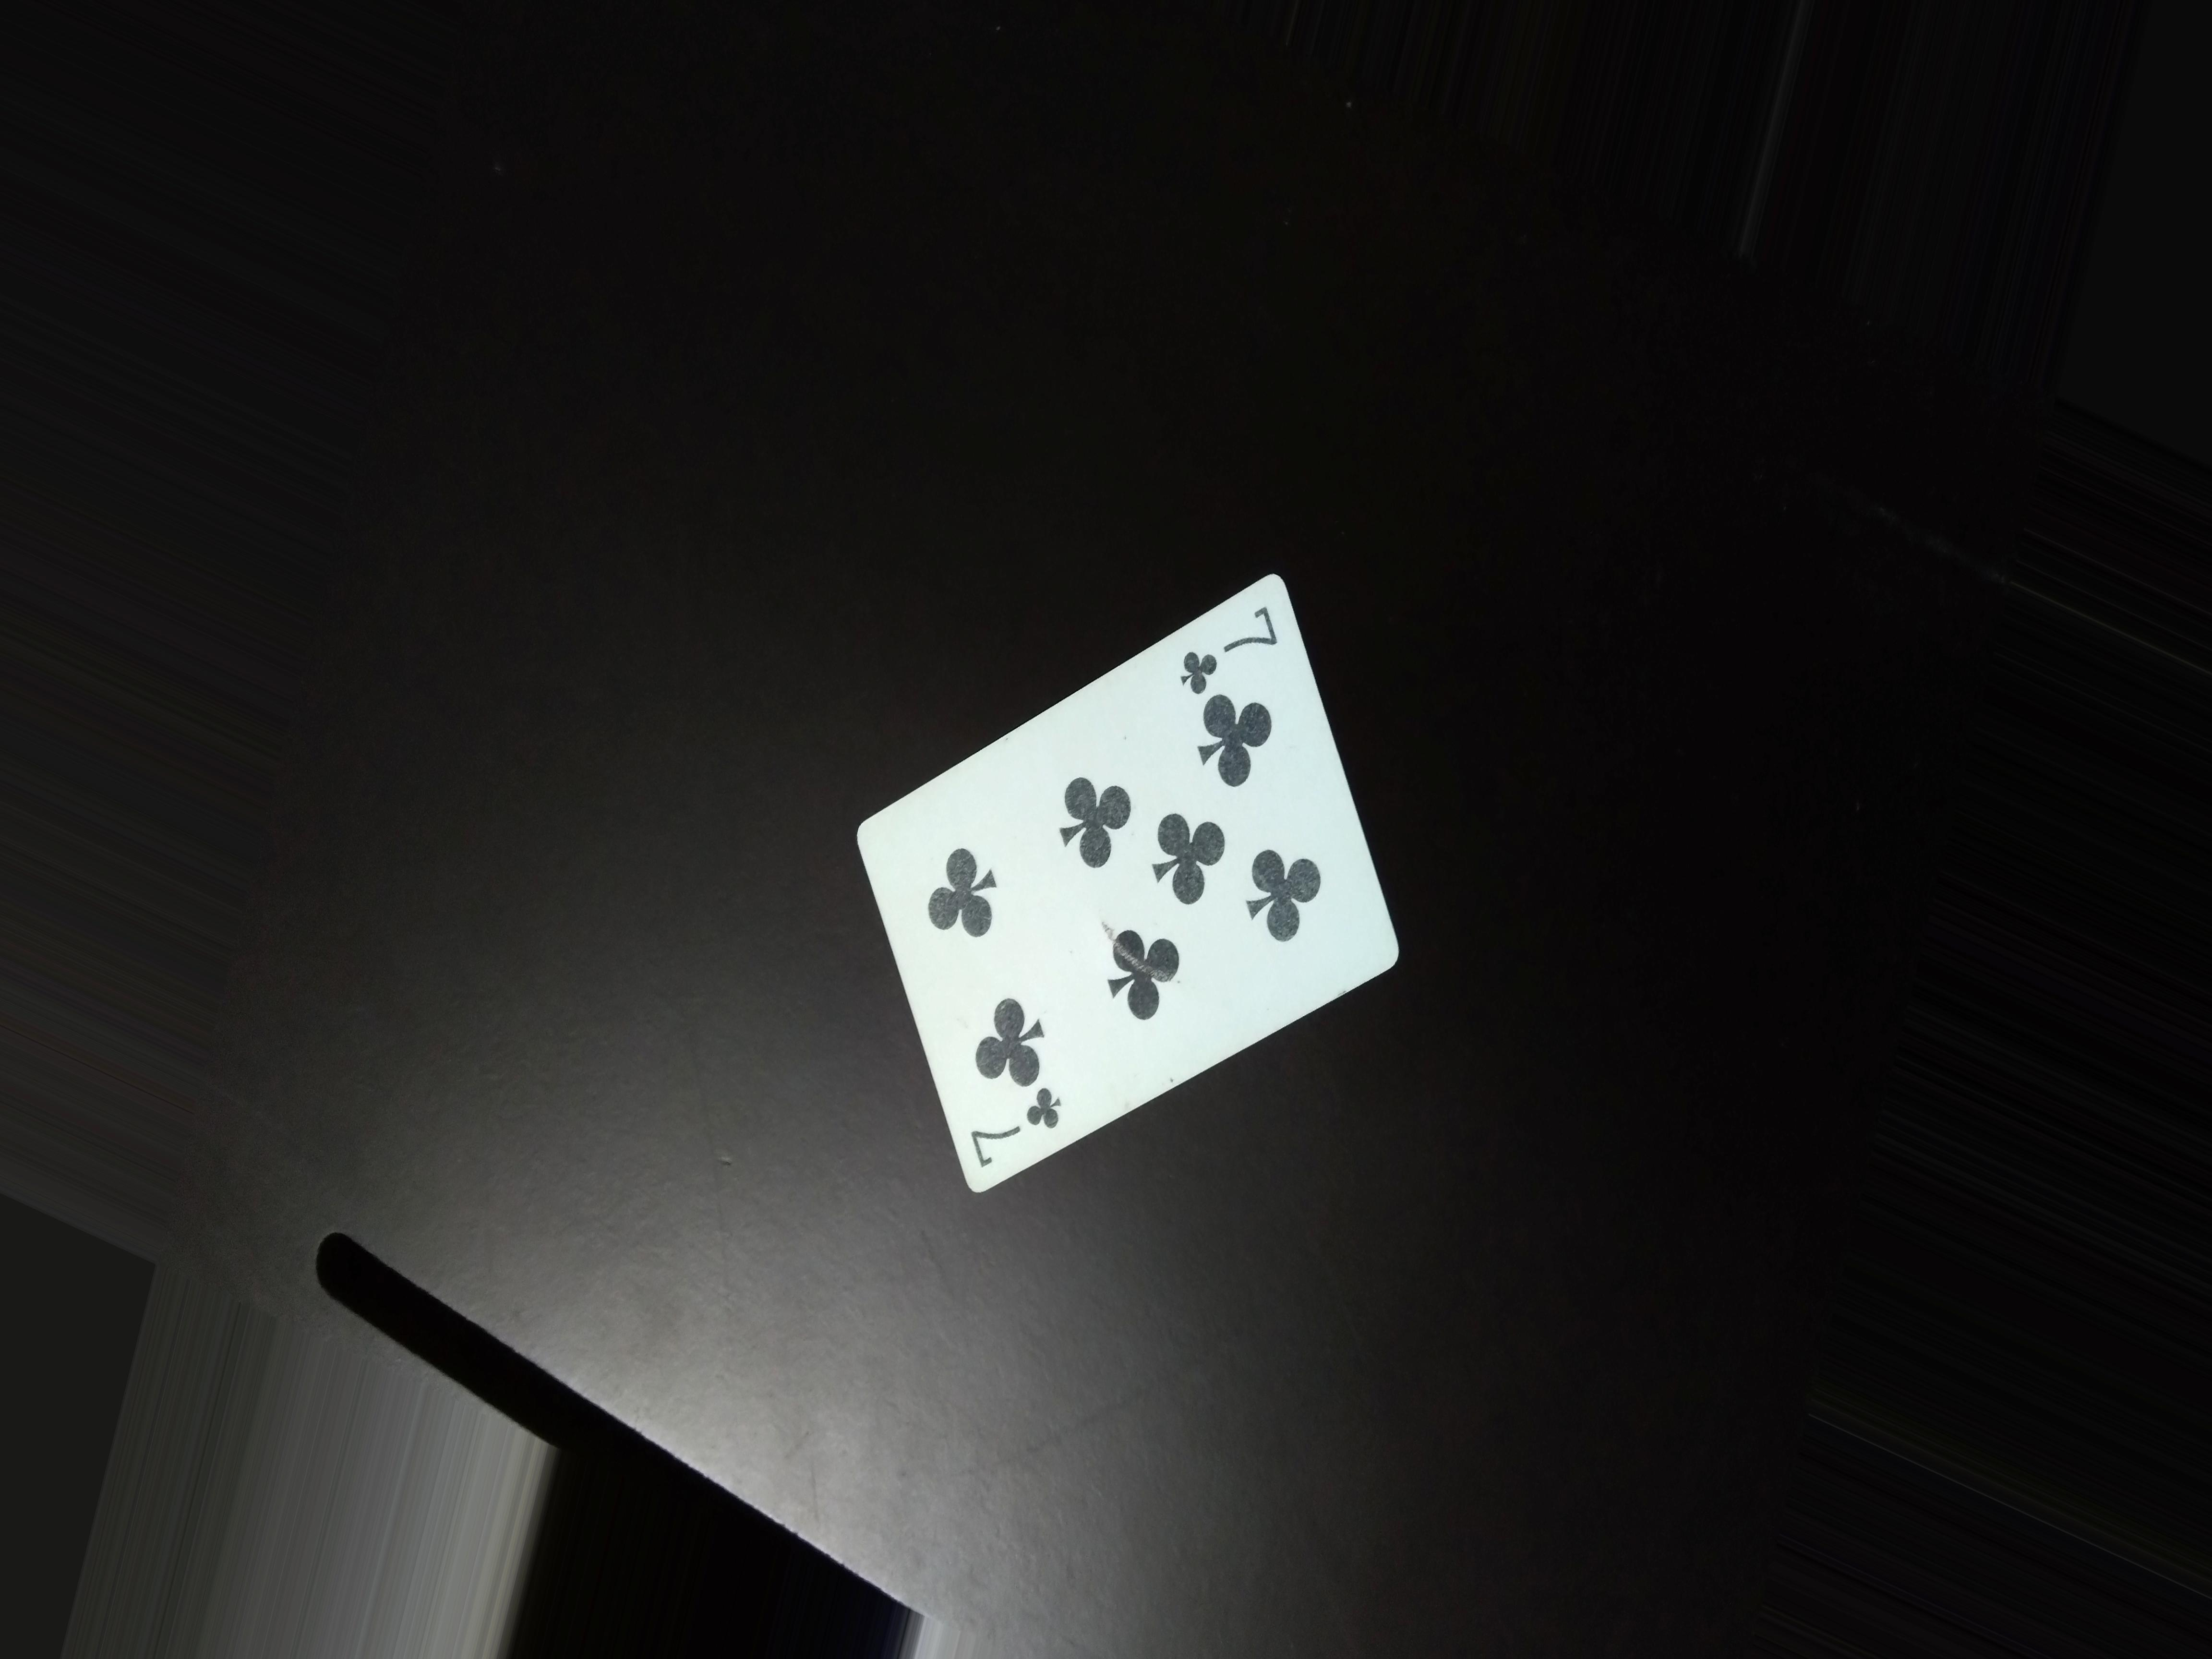7C: (954, 1089, 1068, 1164)
